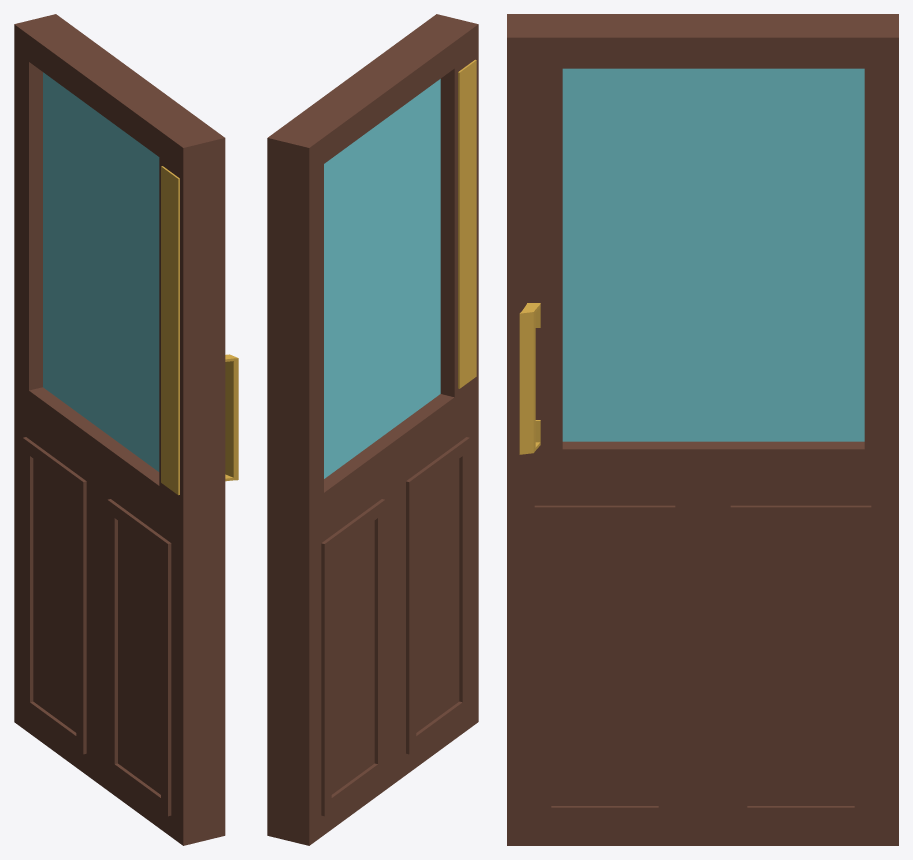
The model's file is SM_Door_Right.fbx.
3 renders of one model, left to right at view 1: azimuth 30°, elevation 25°; view 2: azimuth 150°, elevation 25°; view 3: azimuth 270°, elevation 25°, orthographic. The views are drawn at different scales.
Visible parts, largest first — view 1: SK_Door_Right; view 2: SK_Door_Right; view 3: SK_Door_Right.
Boxes of the visible parts, left/top/right/bottom form: SK_Door_Right: left=14, top=14, right=238, bottom=845; SK_Door_Right: left=267, top=14, right=478, bottom=845; SK_Door_Right: left=507, top=14, right=898, bottom=845.
Size of the model in its own units: 19.22 by 200 by 87.67.
